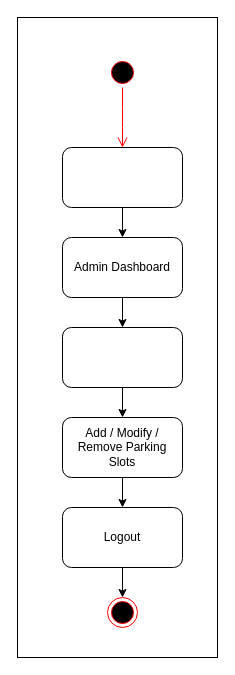
This 235x675 diagram has some shape labels left out. Here are the shapes that lost their labels. From the top down, the centre of each, then its label:
(122,177): Admin Login
(122,357): View Parking Slots
